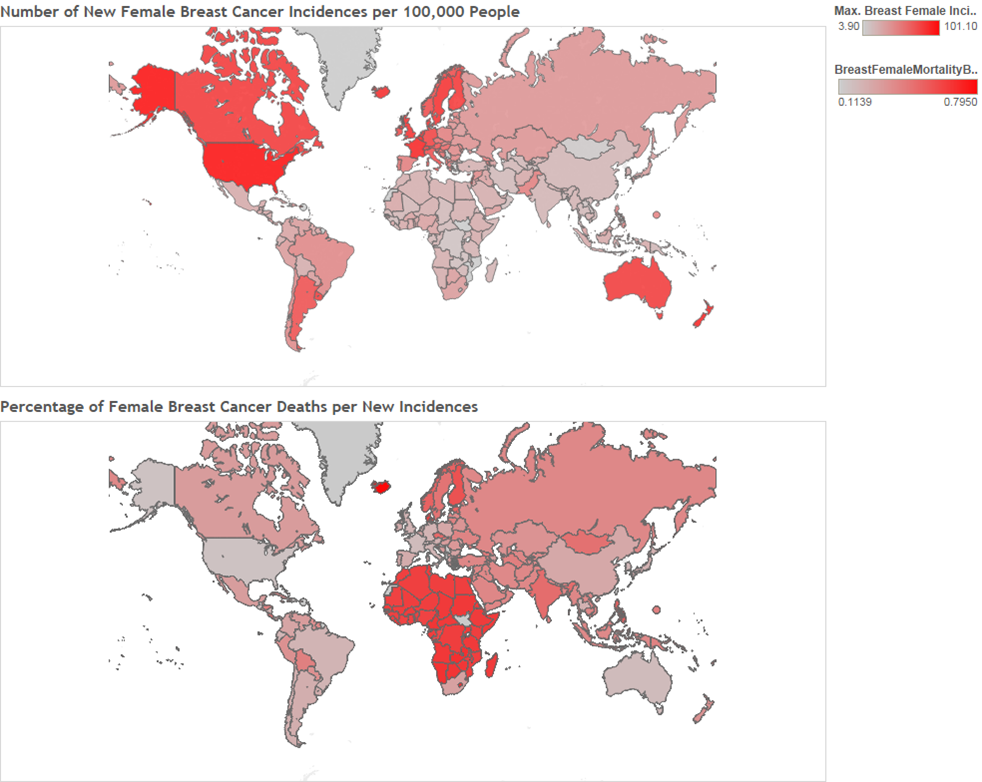

This screenshot's page, from the dashboard's own definition file:
{"tool":"tableau","page":{"name":"Incidence vs. Mortality","canvas":[1000,800],"ordinal":0},"visuals":[{"type":"worksheet","title":"BreastCanIncidence","mark":"Automatic","box":[0,0,840,400]},{"type":"legend","title":"BreastCanIncidence","param":"[oracle.42133.778098773146].[max:BREAST_FEMALE_INCIDENCE:qk]","box":[840,0,160,62]},{"type":"legend","title":"BreastCanMortality/Incidence","param":"[oracle.42133.778098773146].[usr:Calculation_3360509201428157:qk]","box":[840,62,160,58]},{"type":"worksheet","title":"BreastCanMortality/Incidence","mark":"Automatic","box":[0,400,840,400]}]}

Visuals, with their boxes in screenshot pixels (x1, y1, x2, y2), scaled from the page's 1000x800 canvas onto the 982x782 screenshot:
"BreastCanIncidence" worksheet: 0, 0, 825, 391
"BreastCanIncidence" legend: 825, 0, 981, 61
"BreastCanMortality/Incidence" legend: 825, 61, 981, 117
"BreastCanMortality/Incidence" worksheet: 0, 391, 825, 781
